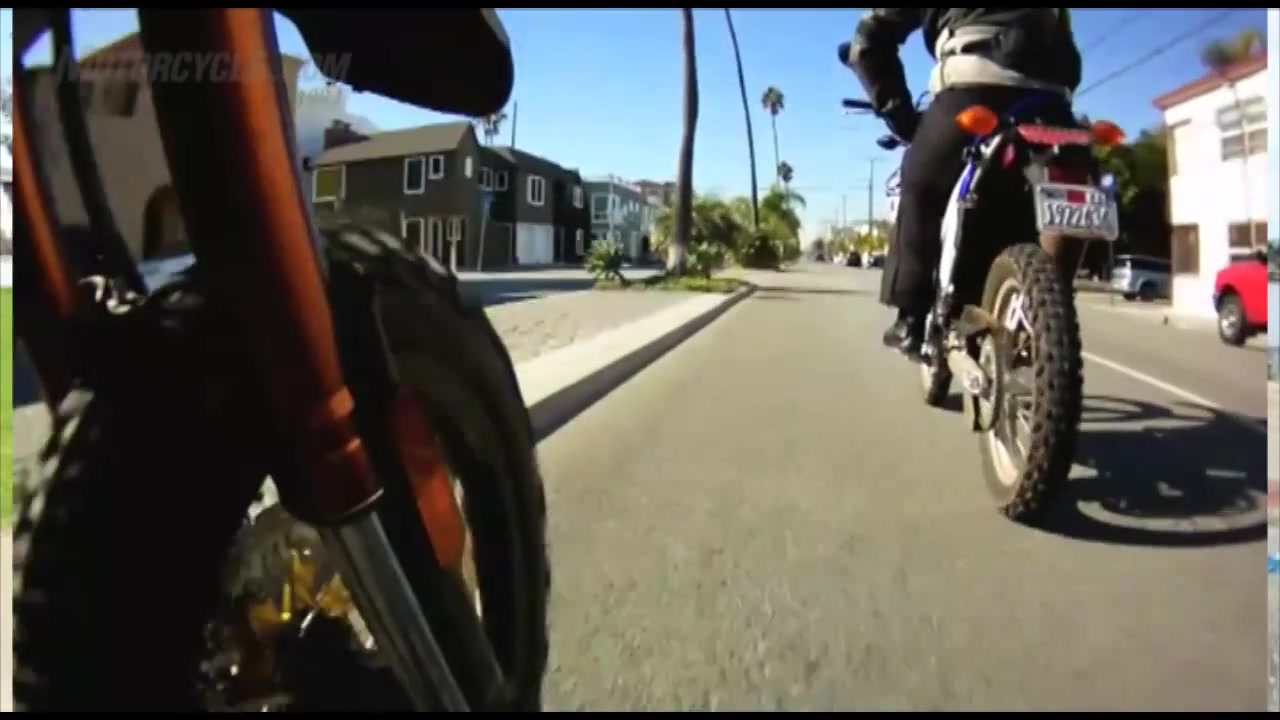motorbike: (830, 41, 1123, 527)
